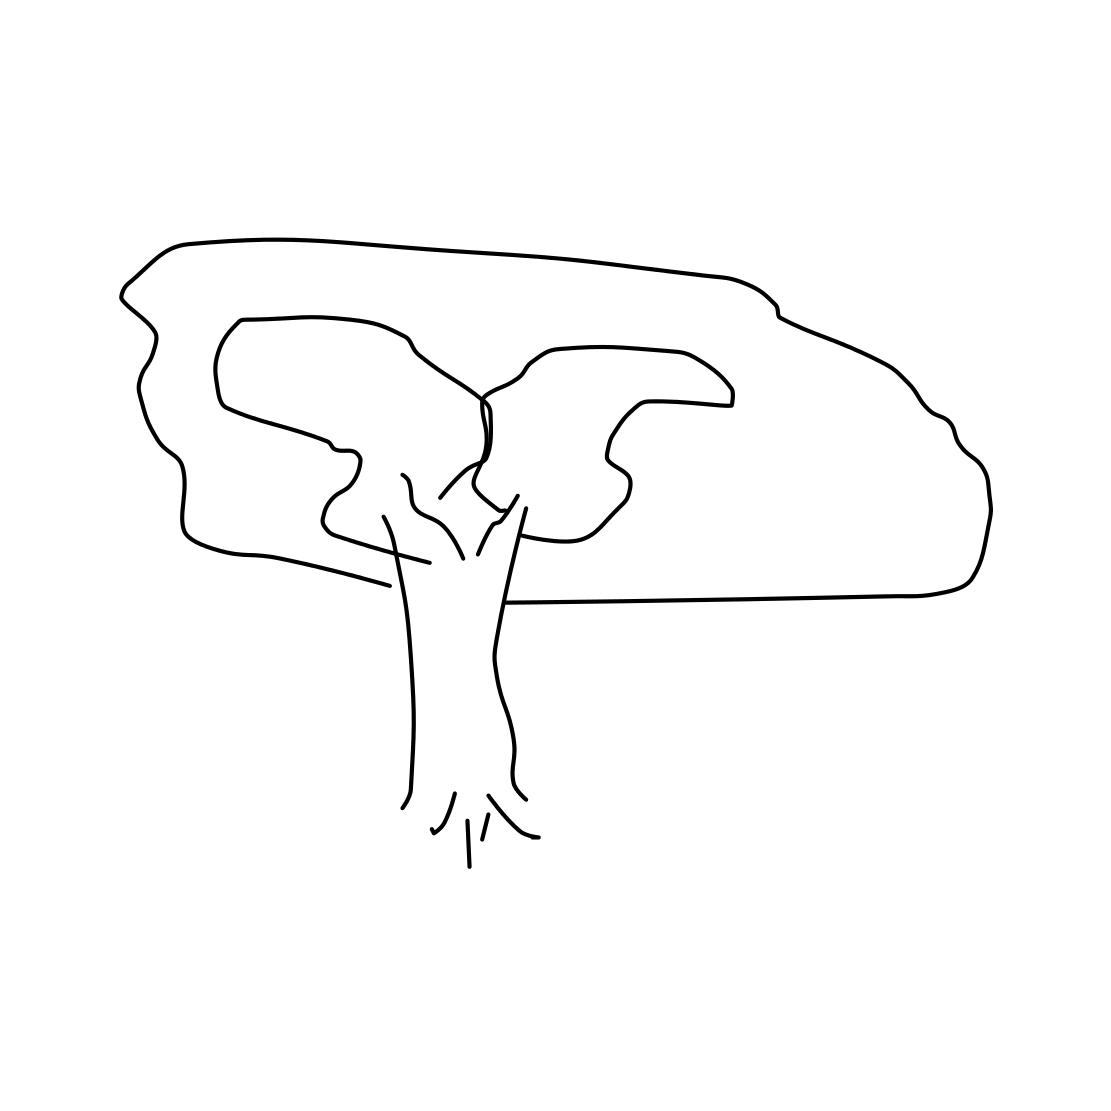Tree: (71, 180, 1006, 868)
